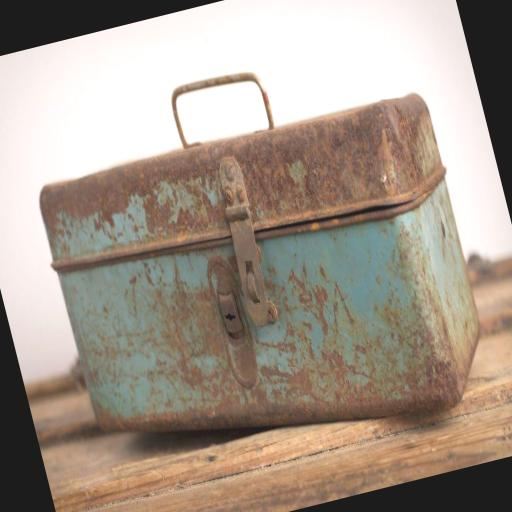segmentation: (64, 195, 481, 494), (40, 71, 444, 270)
